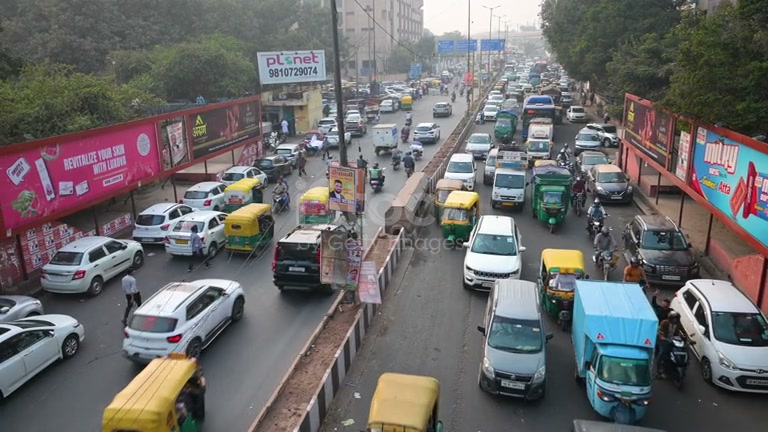bus: (526, 117, 554, 157), (522, 95, 555, 123), (493, 109, 518, 141), (526, 117, 554, 145)
car: (668, 278, 768, 394), (122, 278, 245, 364), (477, 278, 551, 402), (0, 313, 85, 402), (38, 234, 145, 296), (622, 213, 699, 287), (462, 214, 526, 292), (433, 178, 481, 248), (538, 248, 588, 315), (163, 212, 228, 259), (131, 201, 197, 244), (223, 202, 274, 256), (181, 180, 251, 212), (585, 165, 633, 205), (490, 165, 530, 210), (182, 180, 229, 210), (444, 152, 479, 191), (219, 164, 267, 190), (0, 294, 44, 322), (274, 143, 308, 176), (254, 154, 293, 181), (574, 151, 610, 180), (466, 132, 494, 160), (574, 131, 605, 153), (412, 122, 441, 144), (567, 106, 588, 123), (433, 101, 452, 118), (379, 98, 399, 113)
pedestrian: (121, 272, 141, 330), (586, 197, 607, 234)
truck: (570, 279, 659, 424), (669, 278, 768, 394), (100, 353, 206, 431), (270, 223, 352, 293), (366, 372, 444, 432), (433, 179, 481, 249), (531, 166, 572, 225), (372, 122, 400, 154)
